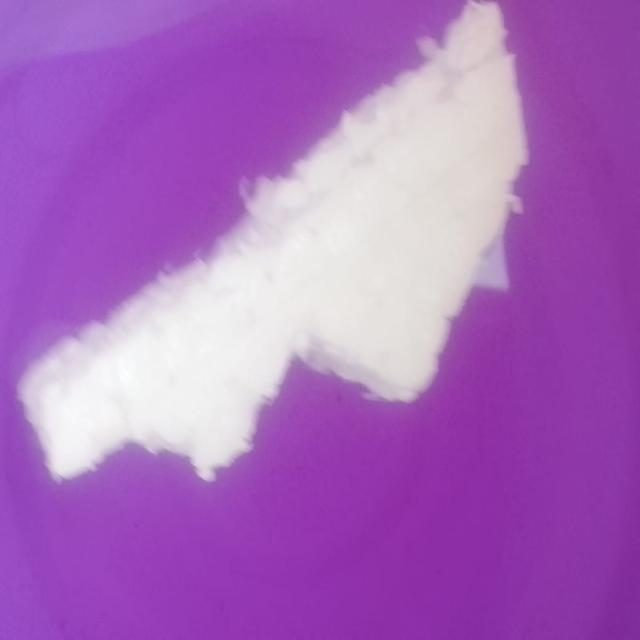litter: (6, 18, 542, 522)
